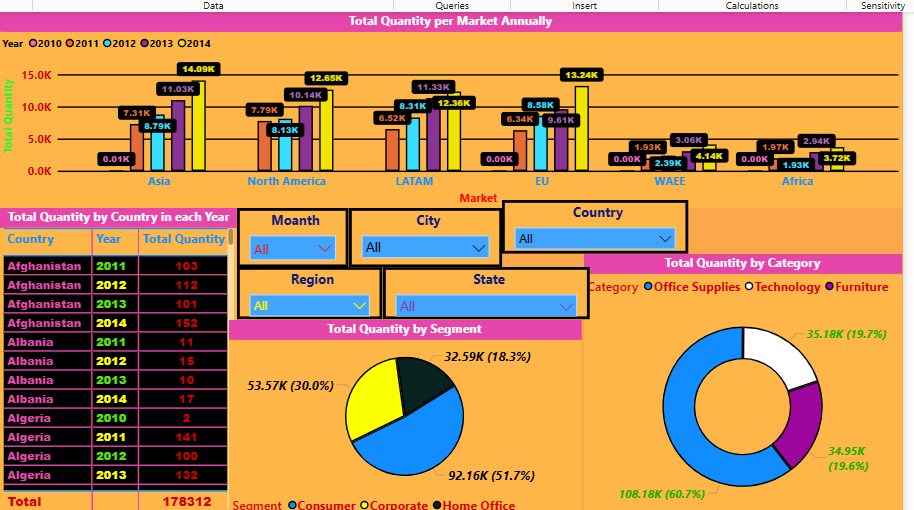

What the dashboard file says about the page in this screenshot:
{"tool":"powerbi","page":{"name":"Page 1 \\1Quantity report ","canvas":[1280,720],"ordinal":1},"visuals":[{"type":"clusteredColumnChart","title":"Total Quantity per Market Annually","fields":{"Category":["Dim_Customer.Market2"],"Series":["Dim_Date.Year"],"Y":["fact table Global _ Superstore _ Cleaned.Total Quantity"]},"box":[0,0,1280,278],"z":0},{"type":"tableEx","title":"Total Quantity by Country in each Year","fields":{"Values":["Dim_Customer.Country","Dim_Date.Year","fact table Global _ Superstore _ Cleaned.Total Quantity"]},"box":[0,278,337.2,441.8],"z":1000},{"type":"pieChart","fields":{"Category":["Dim_Customer.Segment"],"Y":["fact table Global _ Superstore _ Cleaned.Total Quantity"]},"box":[326.2,436.3,499.6,283.5],"z":2000},{"type":"donutChart","fields":{"Category":["Dim_Product.Category"],"Y":["fact table Global _ Superstore _ Cleaned.Total Quantity"]},"box":[828.6,342.7,451.4,377.1],"z":3000},{"type":"slicer","title":"Moanth","fields":{"Values":["Dim_Date.Month Name","Dim_Date.Month"]},"box":[337.2,278,158.3,84],"z":4000},{"type":"slicer","title":"Region","fields":{"Values":["Dim_Product.Sub-Category"]},"box":[337.2,362,206.5,74.3],"z":5000},{"type":"slicer","title":"State","fields":{"Values":["Dim_Product.Category"]},"box":[543.7,362,293.2,74.3],"z":6000},{"type":"slicer","title":"City","fields":{"Values":["Dim_Customer.Country"]},"box":[495.5,278,217.5,84],"z":7000},{"type":"slicer","title":"Country","fields":{"Values":["Dim_Customer.Country"]},"box":[712.9,267,264.3,75.7],"z":8000}]}

Visuals, with their boxes on the page's 1280x720 design canvas (x1, y1, x2, y2). These are canvas units, not pixel positions in the 914x510 screenshot, which may show the page scaled, cropped or inside an application window:
"Total Quantity per Market Annually" clusteredColumnChart: 0 0 1280 278
"Total Quantity by Country in each Year" tableEx: 0 278 337 720
pieChart - Dim_Customer.Segment x fact table Global _ Superstore _ Cleaned.Total Quantity: 326 436 826 720
donutChart - Dim_Product.Category x fact table Global _ Superstore _ Cleaned.Total Quantity: 829 343 1280 720
"Moanth" slicer: 337 278 496 362
"Region" slicer: 337 362 544 436
"State" slicer: 544 362 837 436
"City" slicer: 496 278 713 362
"Country" slicer: 713 267 977 343
